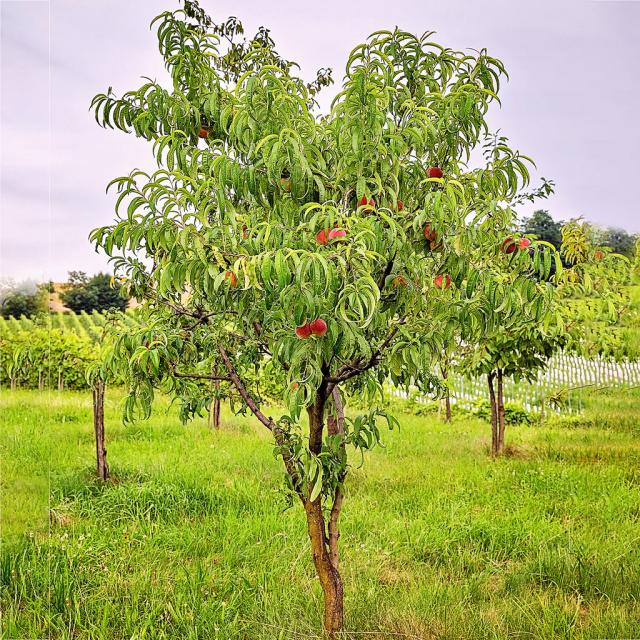Peach: (88, 13, 563, 454)
